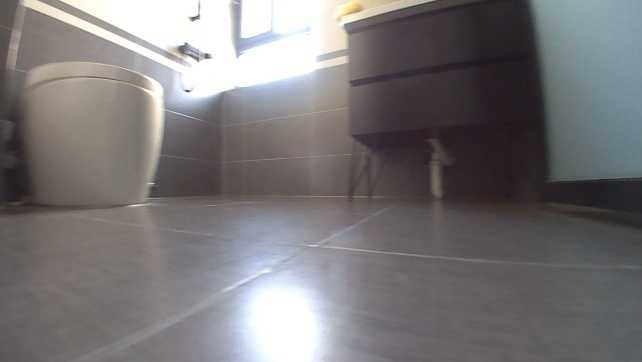toilet: (12, 58, 173, 210)
washstand: (341, 0, 546, 210)
